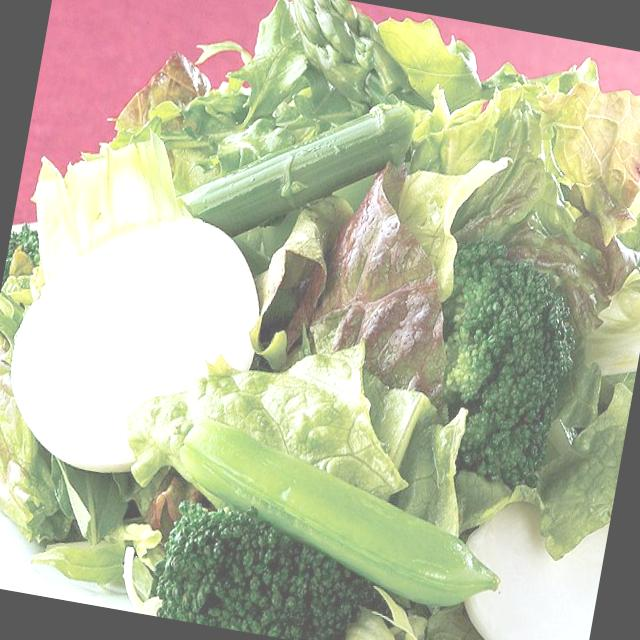Green Salad: (3, 9, 640, 640)
